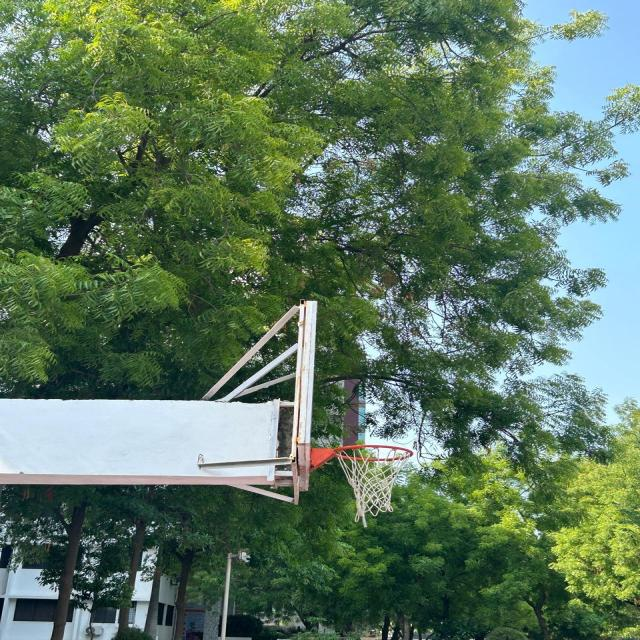hoop: (315, 431, 431, 536)
